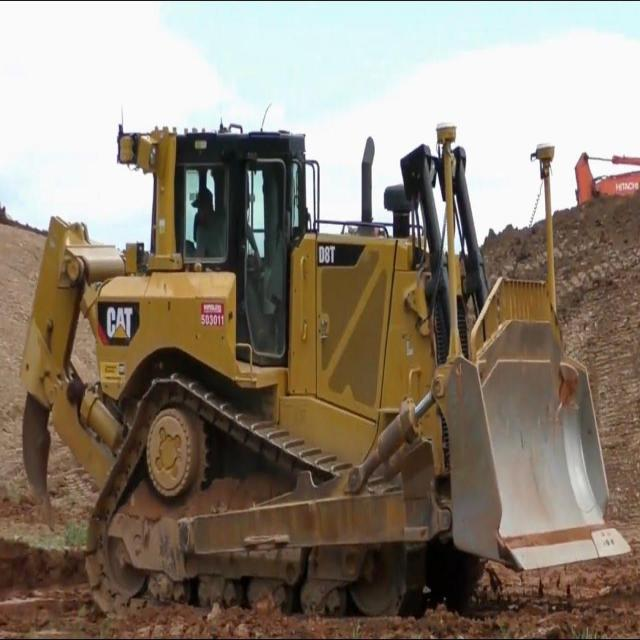Bulldozer: (16, 91, 626, 609)
